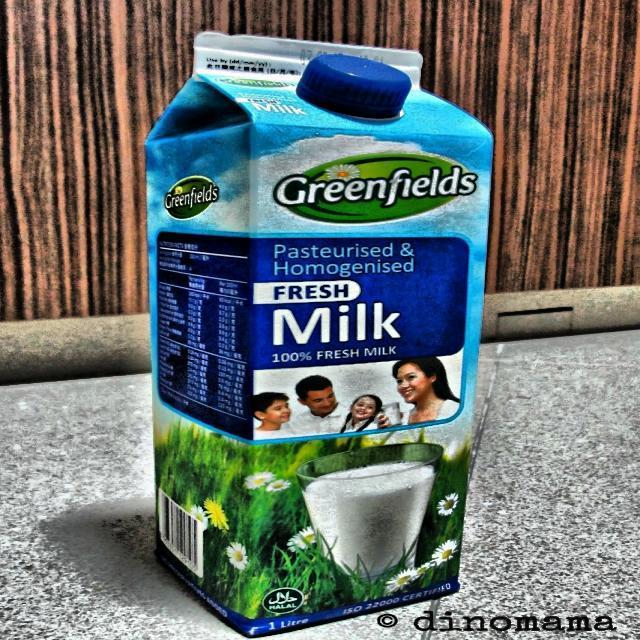cardboard: (143, 31, 494, 636)
